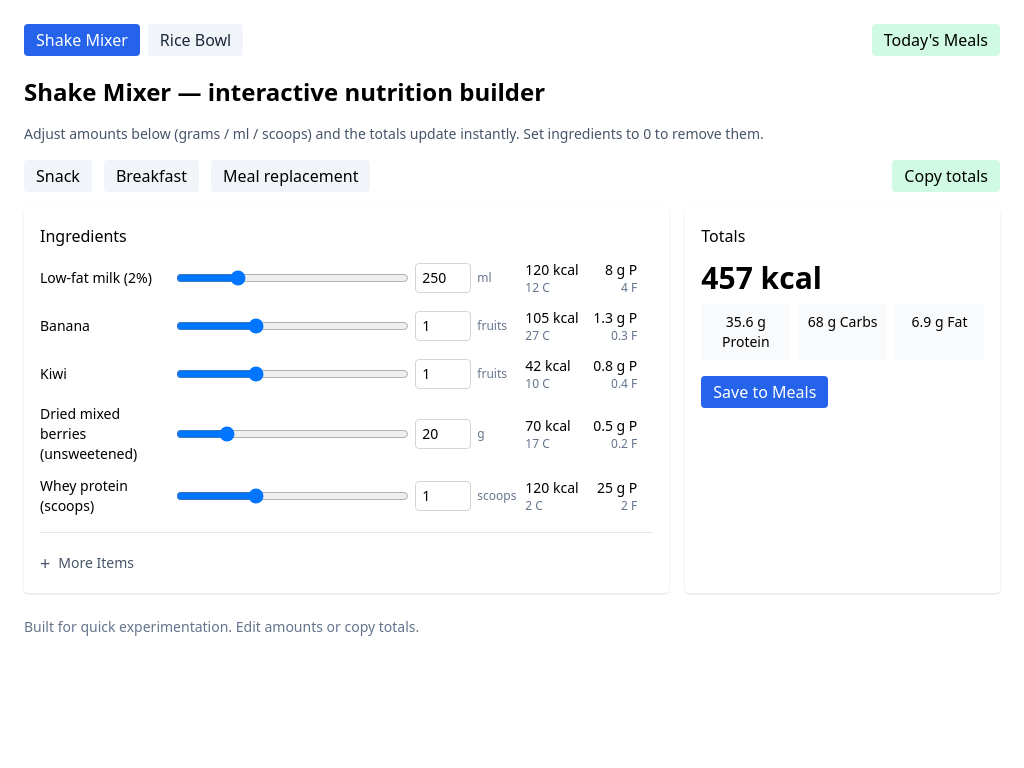
Shake Mixer App › Slider Interactions › clamps value to max for number inputs
Replace the text in the number field named "Banana value" with "99" at x=443, y=326, box [415,311,471,341]
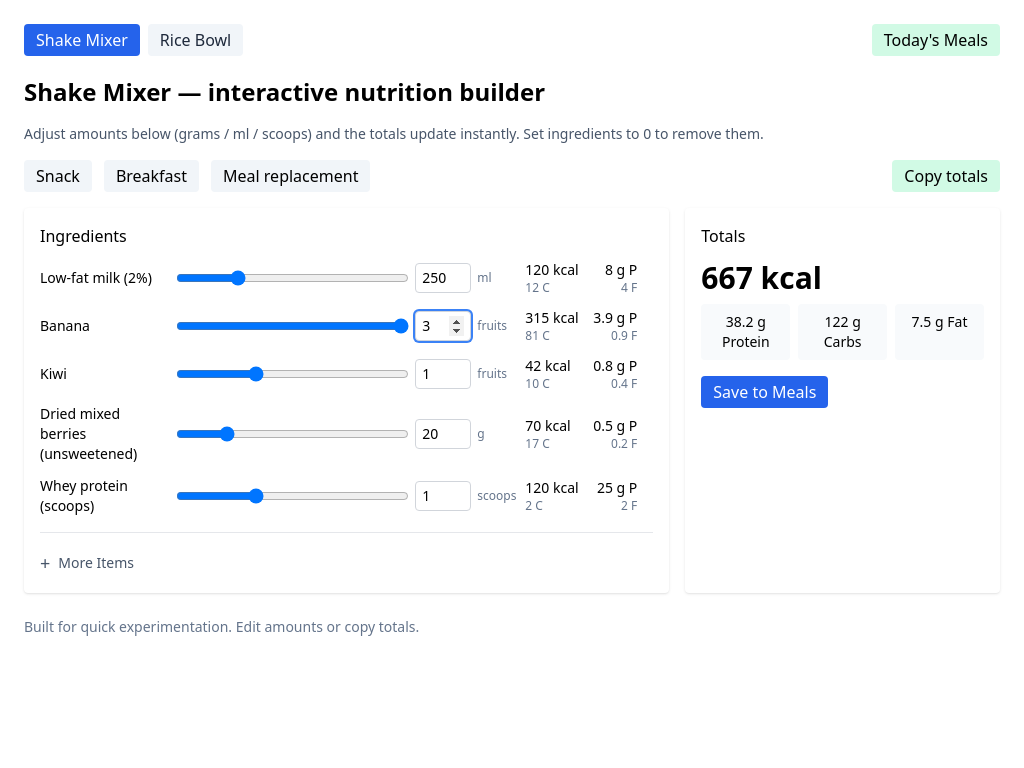
Expected: the number field named "Banana value" holds "3", [415,311,471,341]
